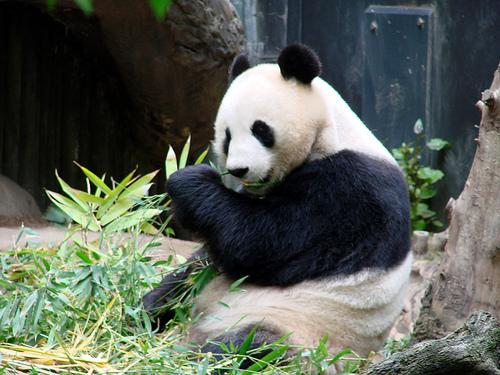panda: (167, 45, 412, 356)
